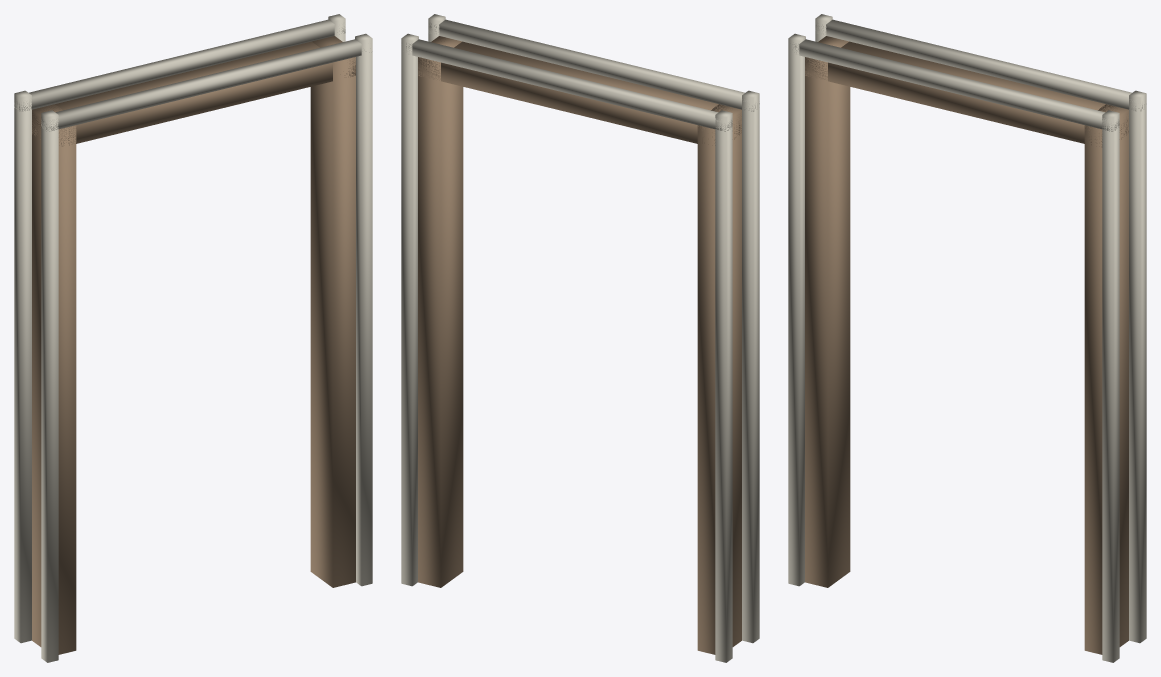
The model's file is doorway_painted_trim_w106_h200_d16.glb.
3 views of the same model, side by side, from view 1: azimuth 30°, elevation 25°; view 2: azimuth 150°, elevation 25°; view 3: azimuth 330°, elevation 25° (orthographic).
Parts seen in each view (by area): view 1: world; view 2: world; view 3: world.
Part boxes in pixels (box(x1,y1,x2,y2)): world: box(14, 14, 372, 662); world: box(401, 14, 759, 662); world: box(788, 14, 1146, 662).
Bounding box in the file's own units: 1.34 × 2.15 × 0.2378.
